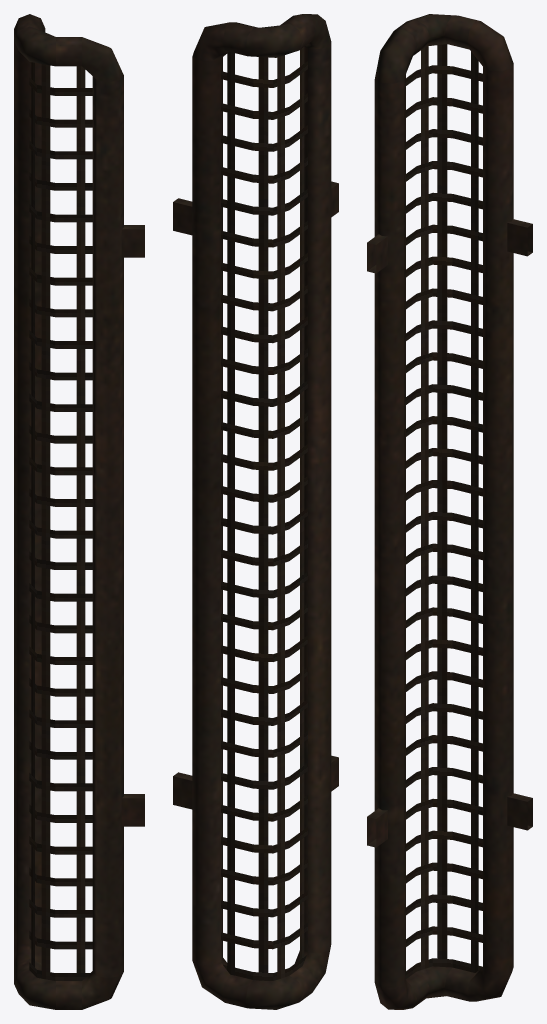
Rendered from fence_e_pillar_1_corner.obj.
3 views of the same model, side by side, from view 1: azimuth 90°, elevation 25°; view 2: azimuth 150°, elevation 25°; view 3: azimuth 330°, elevation 25° (orthographic).
Parts seen in each view (by area): view 1: fence_e_pillar_1_corner; view 2: fence_e_pillar_1_corner; view 3: fence_e_pillar_1_corner.
Part boxes in pixels (<box>): fence_e_pillar_1_corner: <box>14,14,144,1009</box>; fence_e_pillar_1_corner: <box>173,14,338,1009</box>; fence_e_pillar_1_corner: <box>367,14,532,1009</box>.
Size of the model in its own units: 0.25 by 2.05 by 0.25.
